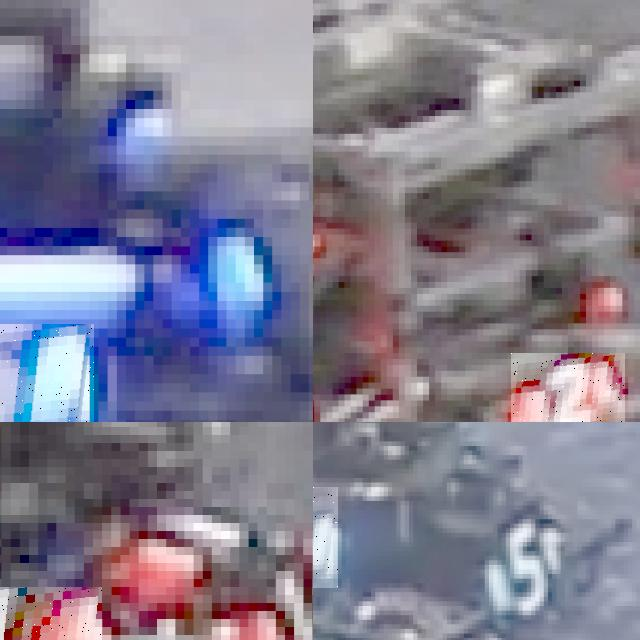B5: (472, 519, 573, 611), (0, 323, 93, 422), (313, 487, 337, 587)
R1: (0, 587, 102, 640)
R2: (510, 353, 625, 422)
